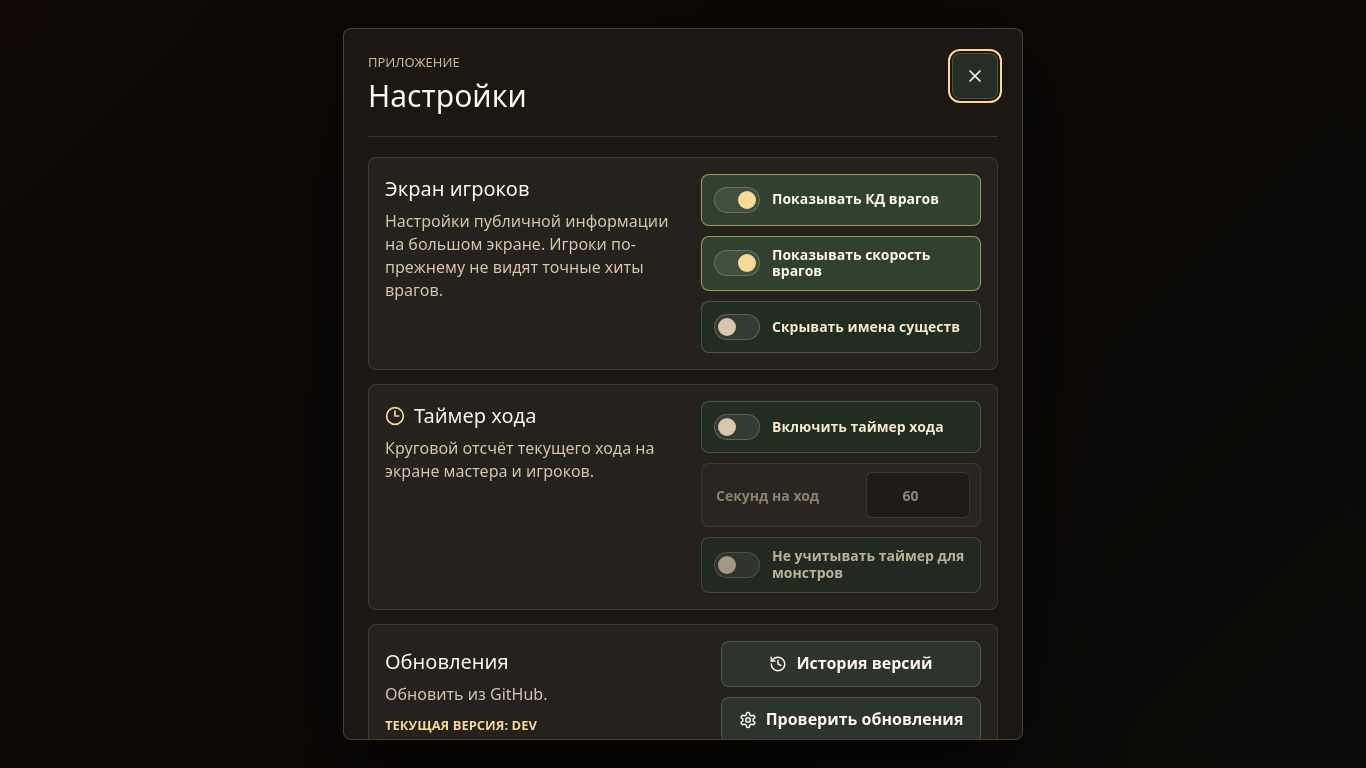
it: SettingsModal turn timer settings › enables the timer and keeps dependent controls disabled until then
The width and height of the screenshot is (1366, 768).
Expected: the number field labelled "Секунд на ход" is disabled, [866,472,970,518]
Expected: the checkbox labelled "Не учитывать таймер для монстров" is disabled, [701,537,981,593]
Click the checkbox labelled "Включить таймер хода".
click(841, 427)  # box [701,401,981,453]
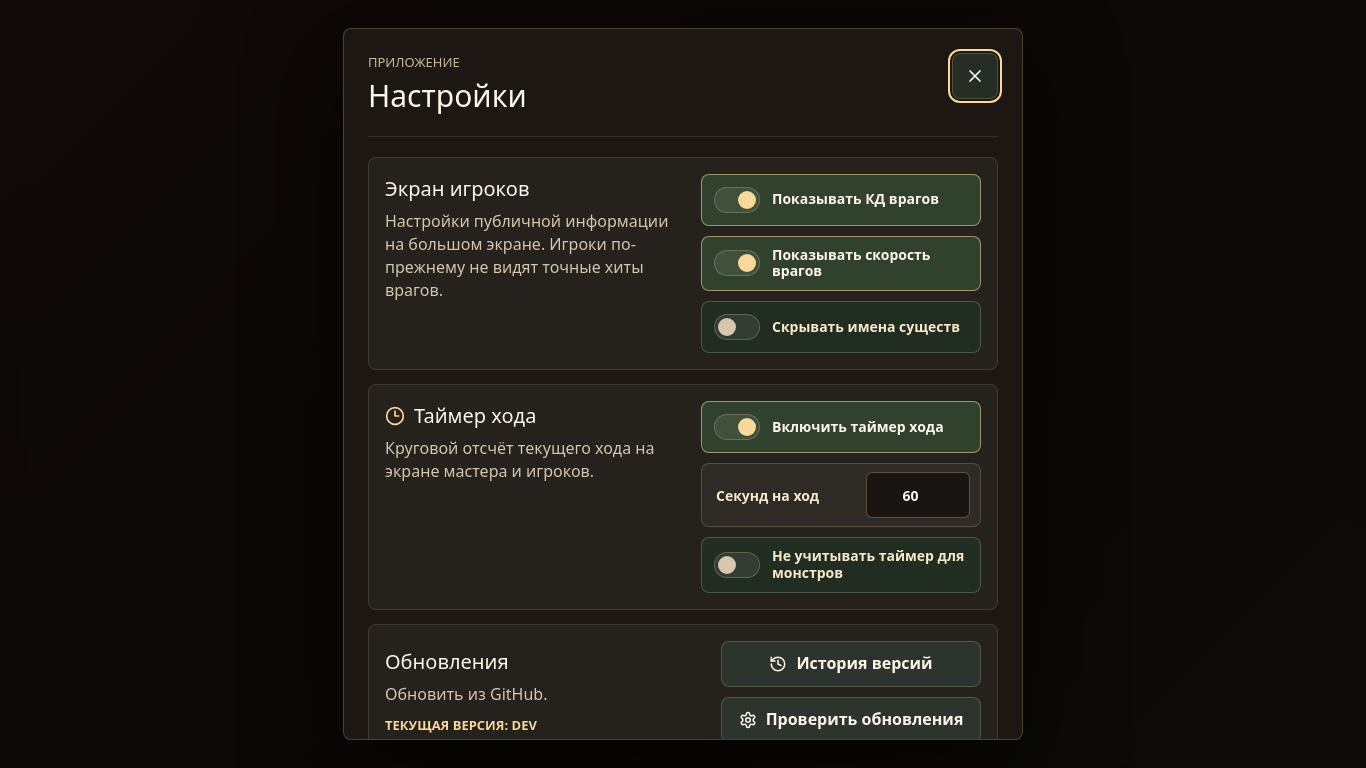
Result: the number field labelled "Секунд на ход" is enabled at [866,472,970,518]
Result: the checkbox labelled "Не учитывать таймер для монстров" is enabled at [701,537,981,593]
